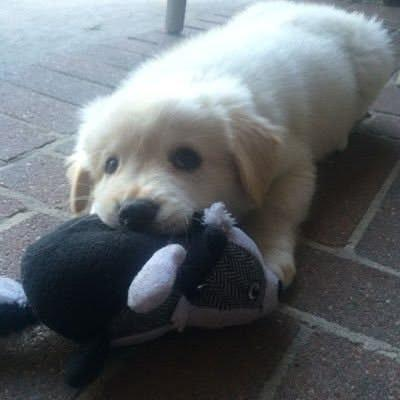puppy-dog: (64, 1, 400, 289)
